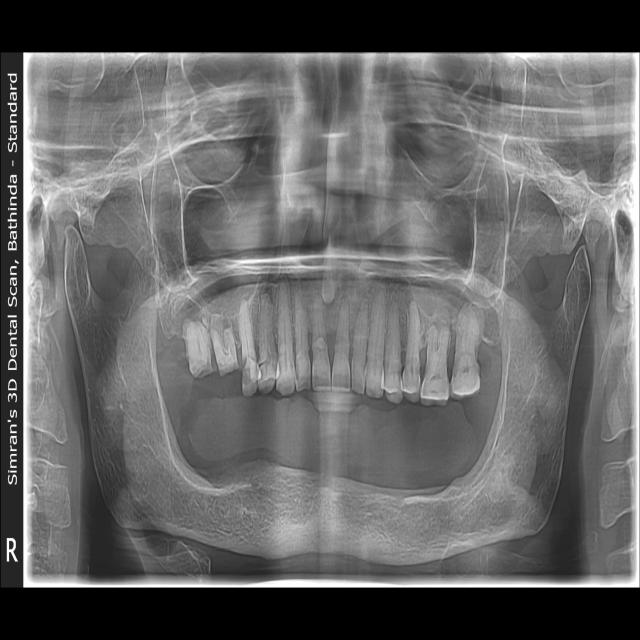Periapical lesion: (260, 284, 276, 318), (339, 295, 350, 318)
Root Piece: (210, 327, 239, 377)
